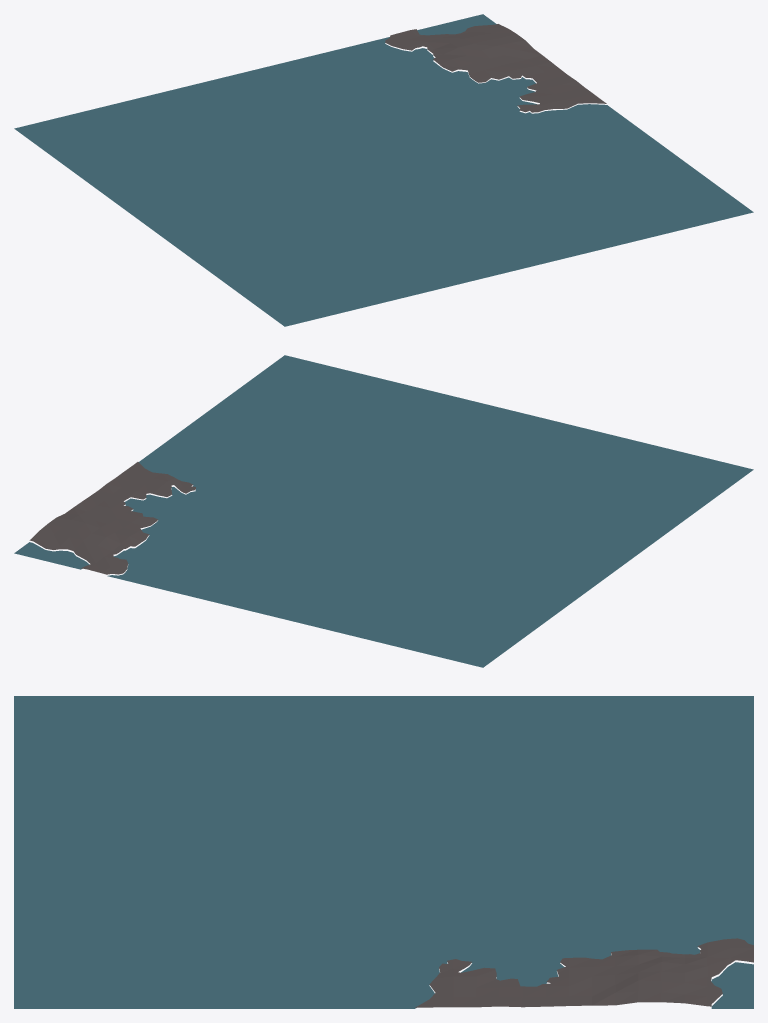
3 renders of one model, top to bottom at view 1: azimuth 30°, elevation 25°; view 2: azimuth 150°, elevation 25°; view 3: azimuth 270°, elevation 25°, orthographic. The views are drawn at different scales.
Parts seen in each view (by area): view 1: c_p05_p10; view 2: c_p05_p10; view 3: c_p05_p10.
Part boxes in pixels (x1,y1,x2,y2): c_p05_p10: (14,14,753,326); c_p05_p10: (14,355,753,667); c_p05_p10: (14,696,753,1008).
Bounding box in the file's own units: 128 × 1.66 × 128.
